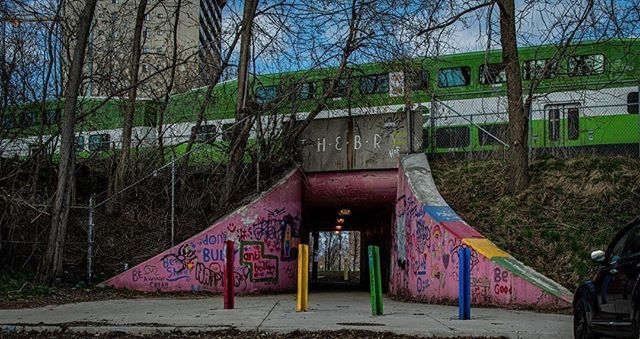graffiti: (125, 187, 306, 297), (397, 205, 515, 304)
train: (1, 52, 638, 154)
vegetation: (1, 1, 275, 274), (436, 1, 640, 272)
